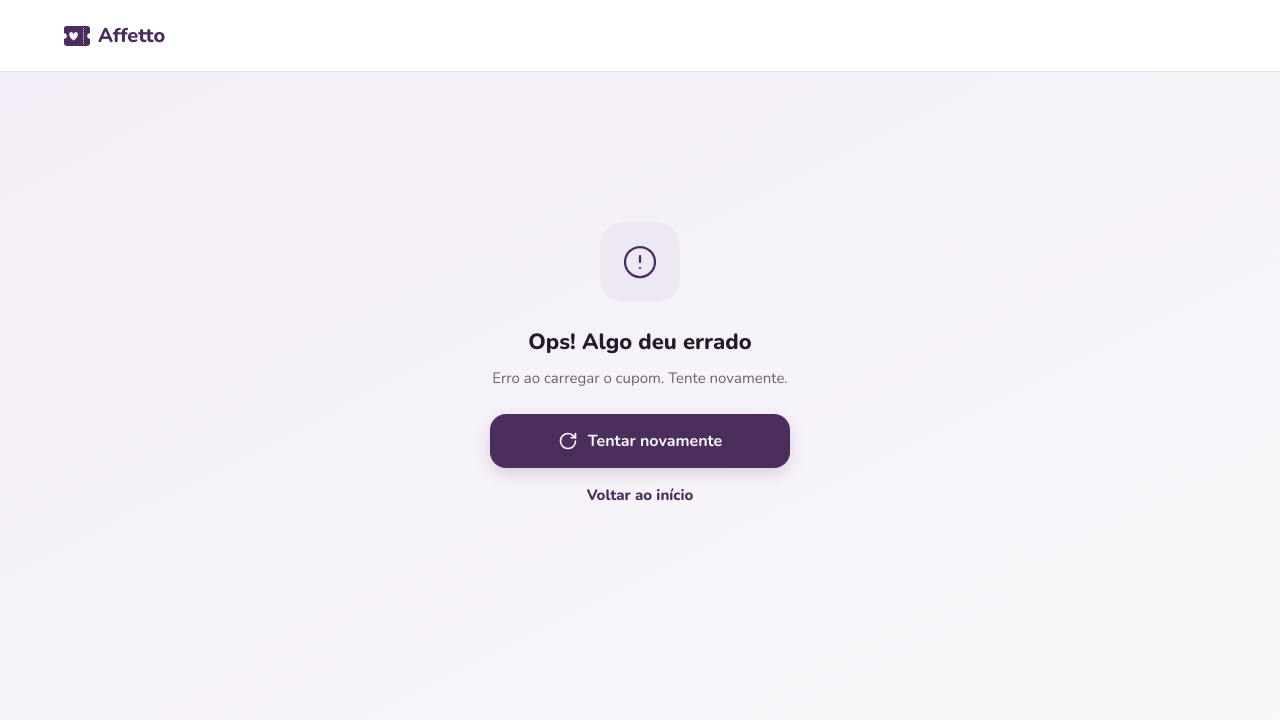
Scenario: RedeemPage › shows an error with retry when the coupon fetch is rejected
The width and height of the screenshot is (1280, 720).
Expected: the message shows "Erro ao carregar o cupom. Tente novamente.", 492,368 -> 788,388
Click the button "Tentar novamente": (640, 440) 490,414 -> 790,468
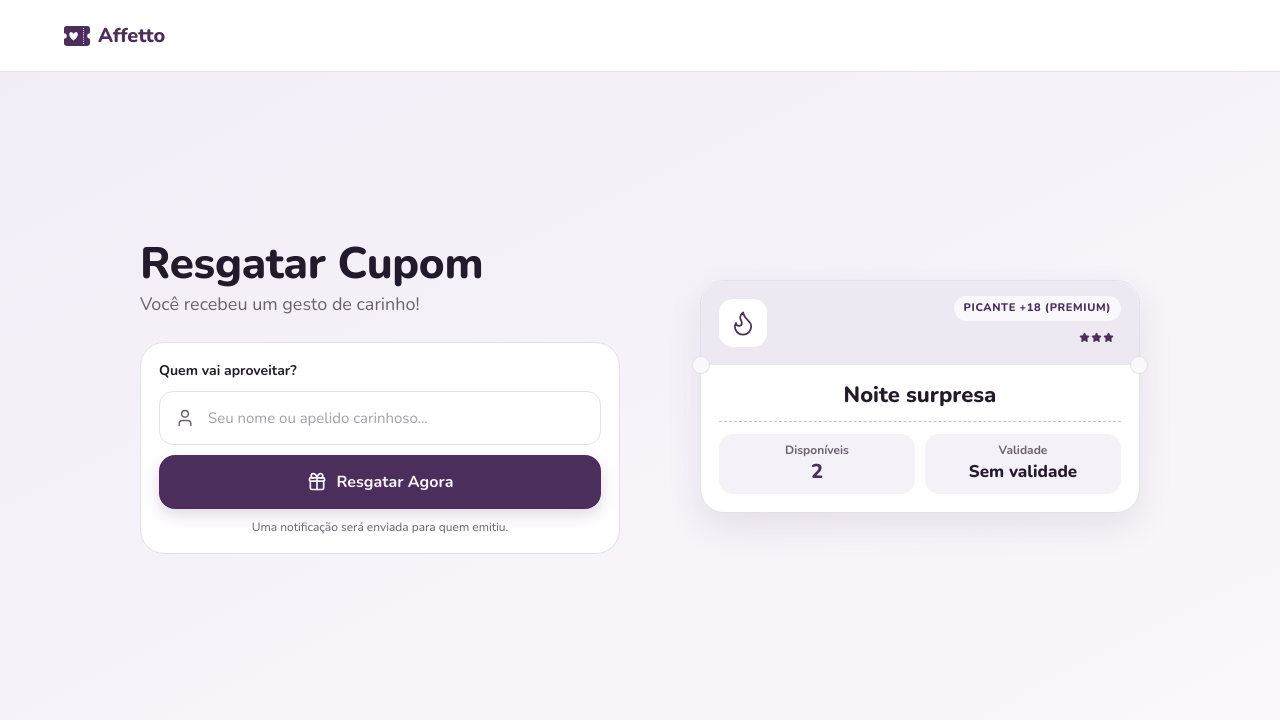
Result: the heading "Resgatar Cupom" is shown at 140,234 -> 483,294
